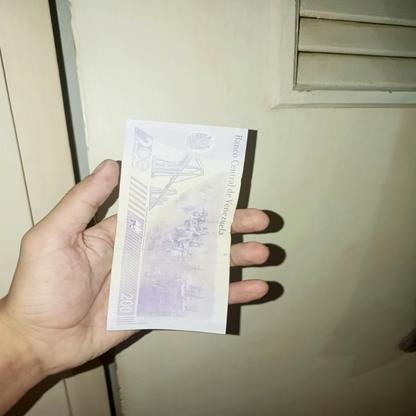two_hundred-back-vef: (106, 118, 248, 336)
